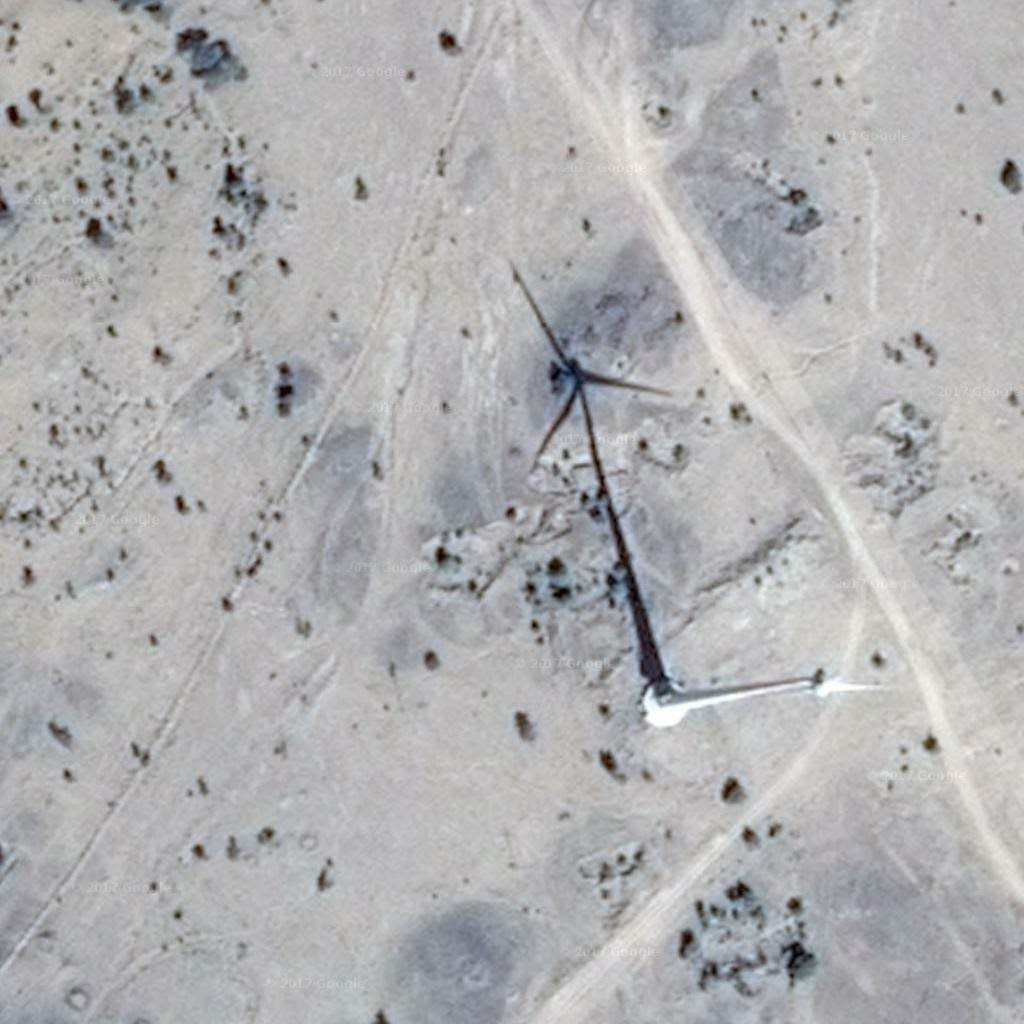Windmill: (504, 258, 692, 699)
